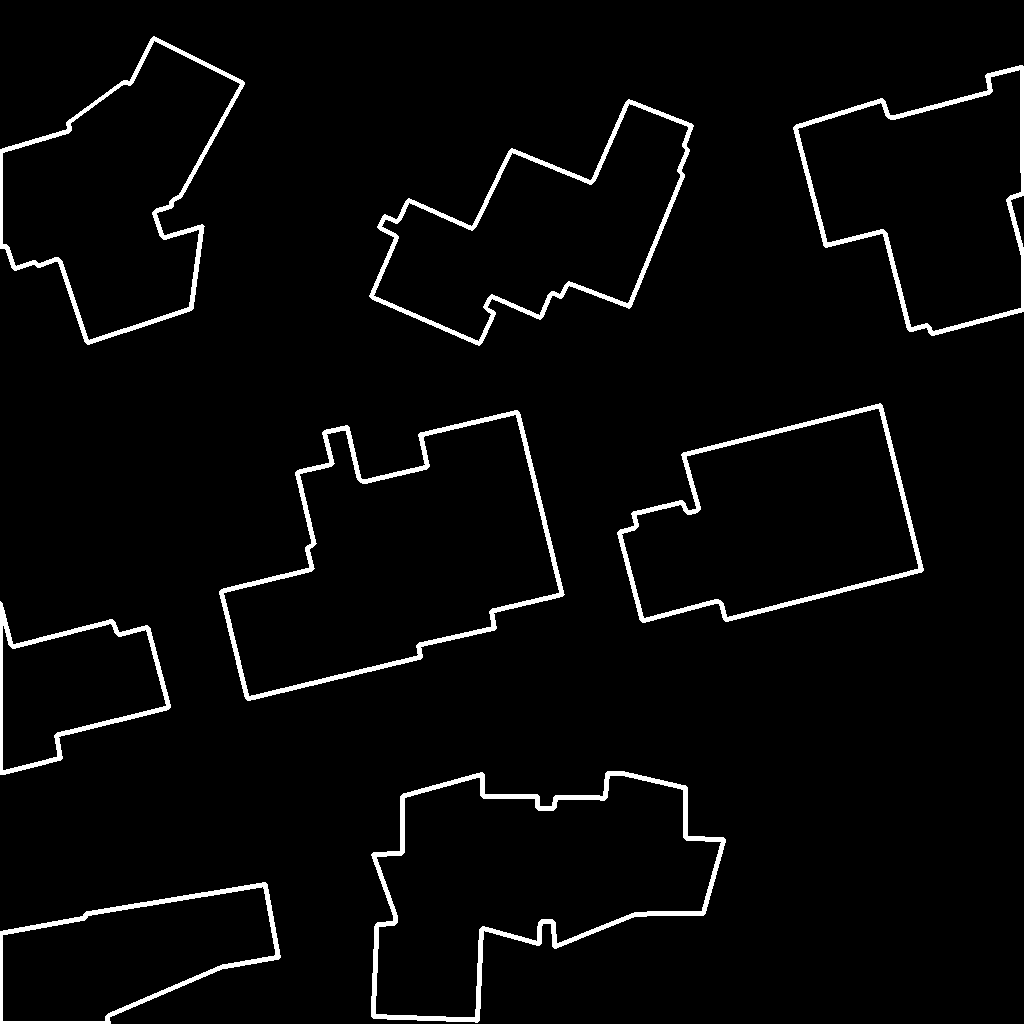building: (221, 412, 563, 700), (373, 773, 725, 1021), (371, 101, 693, 345), (0, 38, 244, 344), (619, 405, 923, 622), (795, 67, 1024, 335), (0, 884, 280, 1024), (0, 601, 170, 774)
